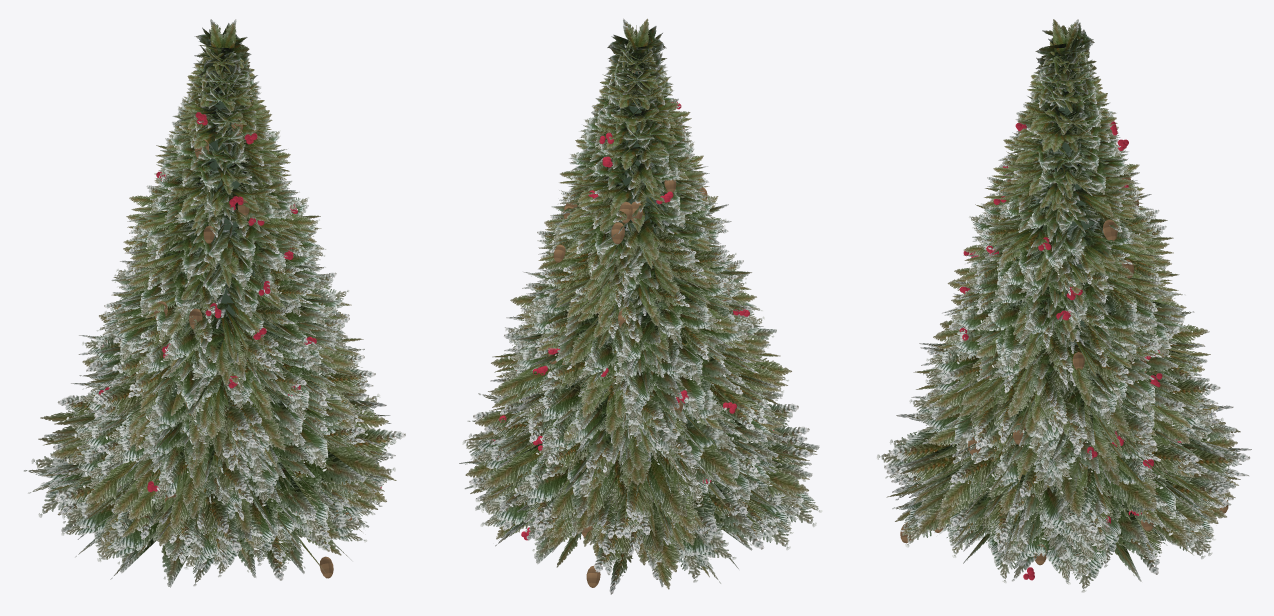
The model's file is frasin-220-3d.glb.
3 views of the same model, side by side, from view 1: azimuth 30°, elevation 25°; view 2: azimuth 150°, elevation 25°; view 3: azimuth 270°, elevation 25° (orthographic).
Parts seen in each view (by area): view 1: brad; view 2: brad; view 3: brad.
Boxes of the visible parts, x1,y1,x2,y2 form: brad: [23, 19, 405, 587]; brad: [459, 18, 822, 594]; brad: [877, 19, 1251, 592].
Size of the model in its own units: 1.62 by 2.29 by 1.58.
2 materials, 1 textured.
